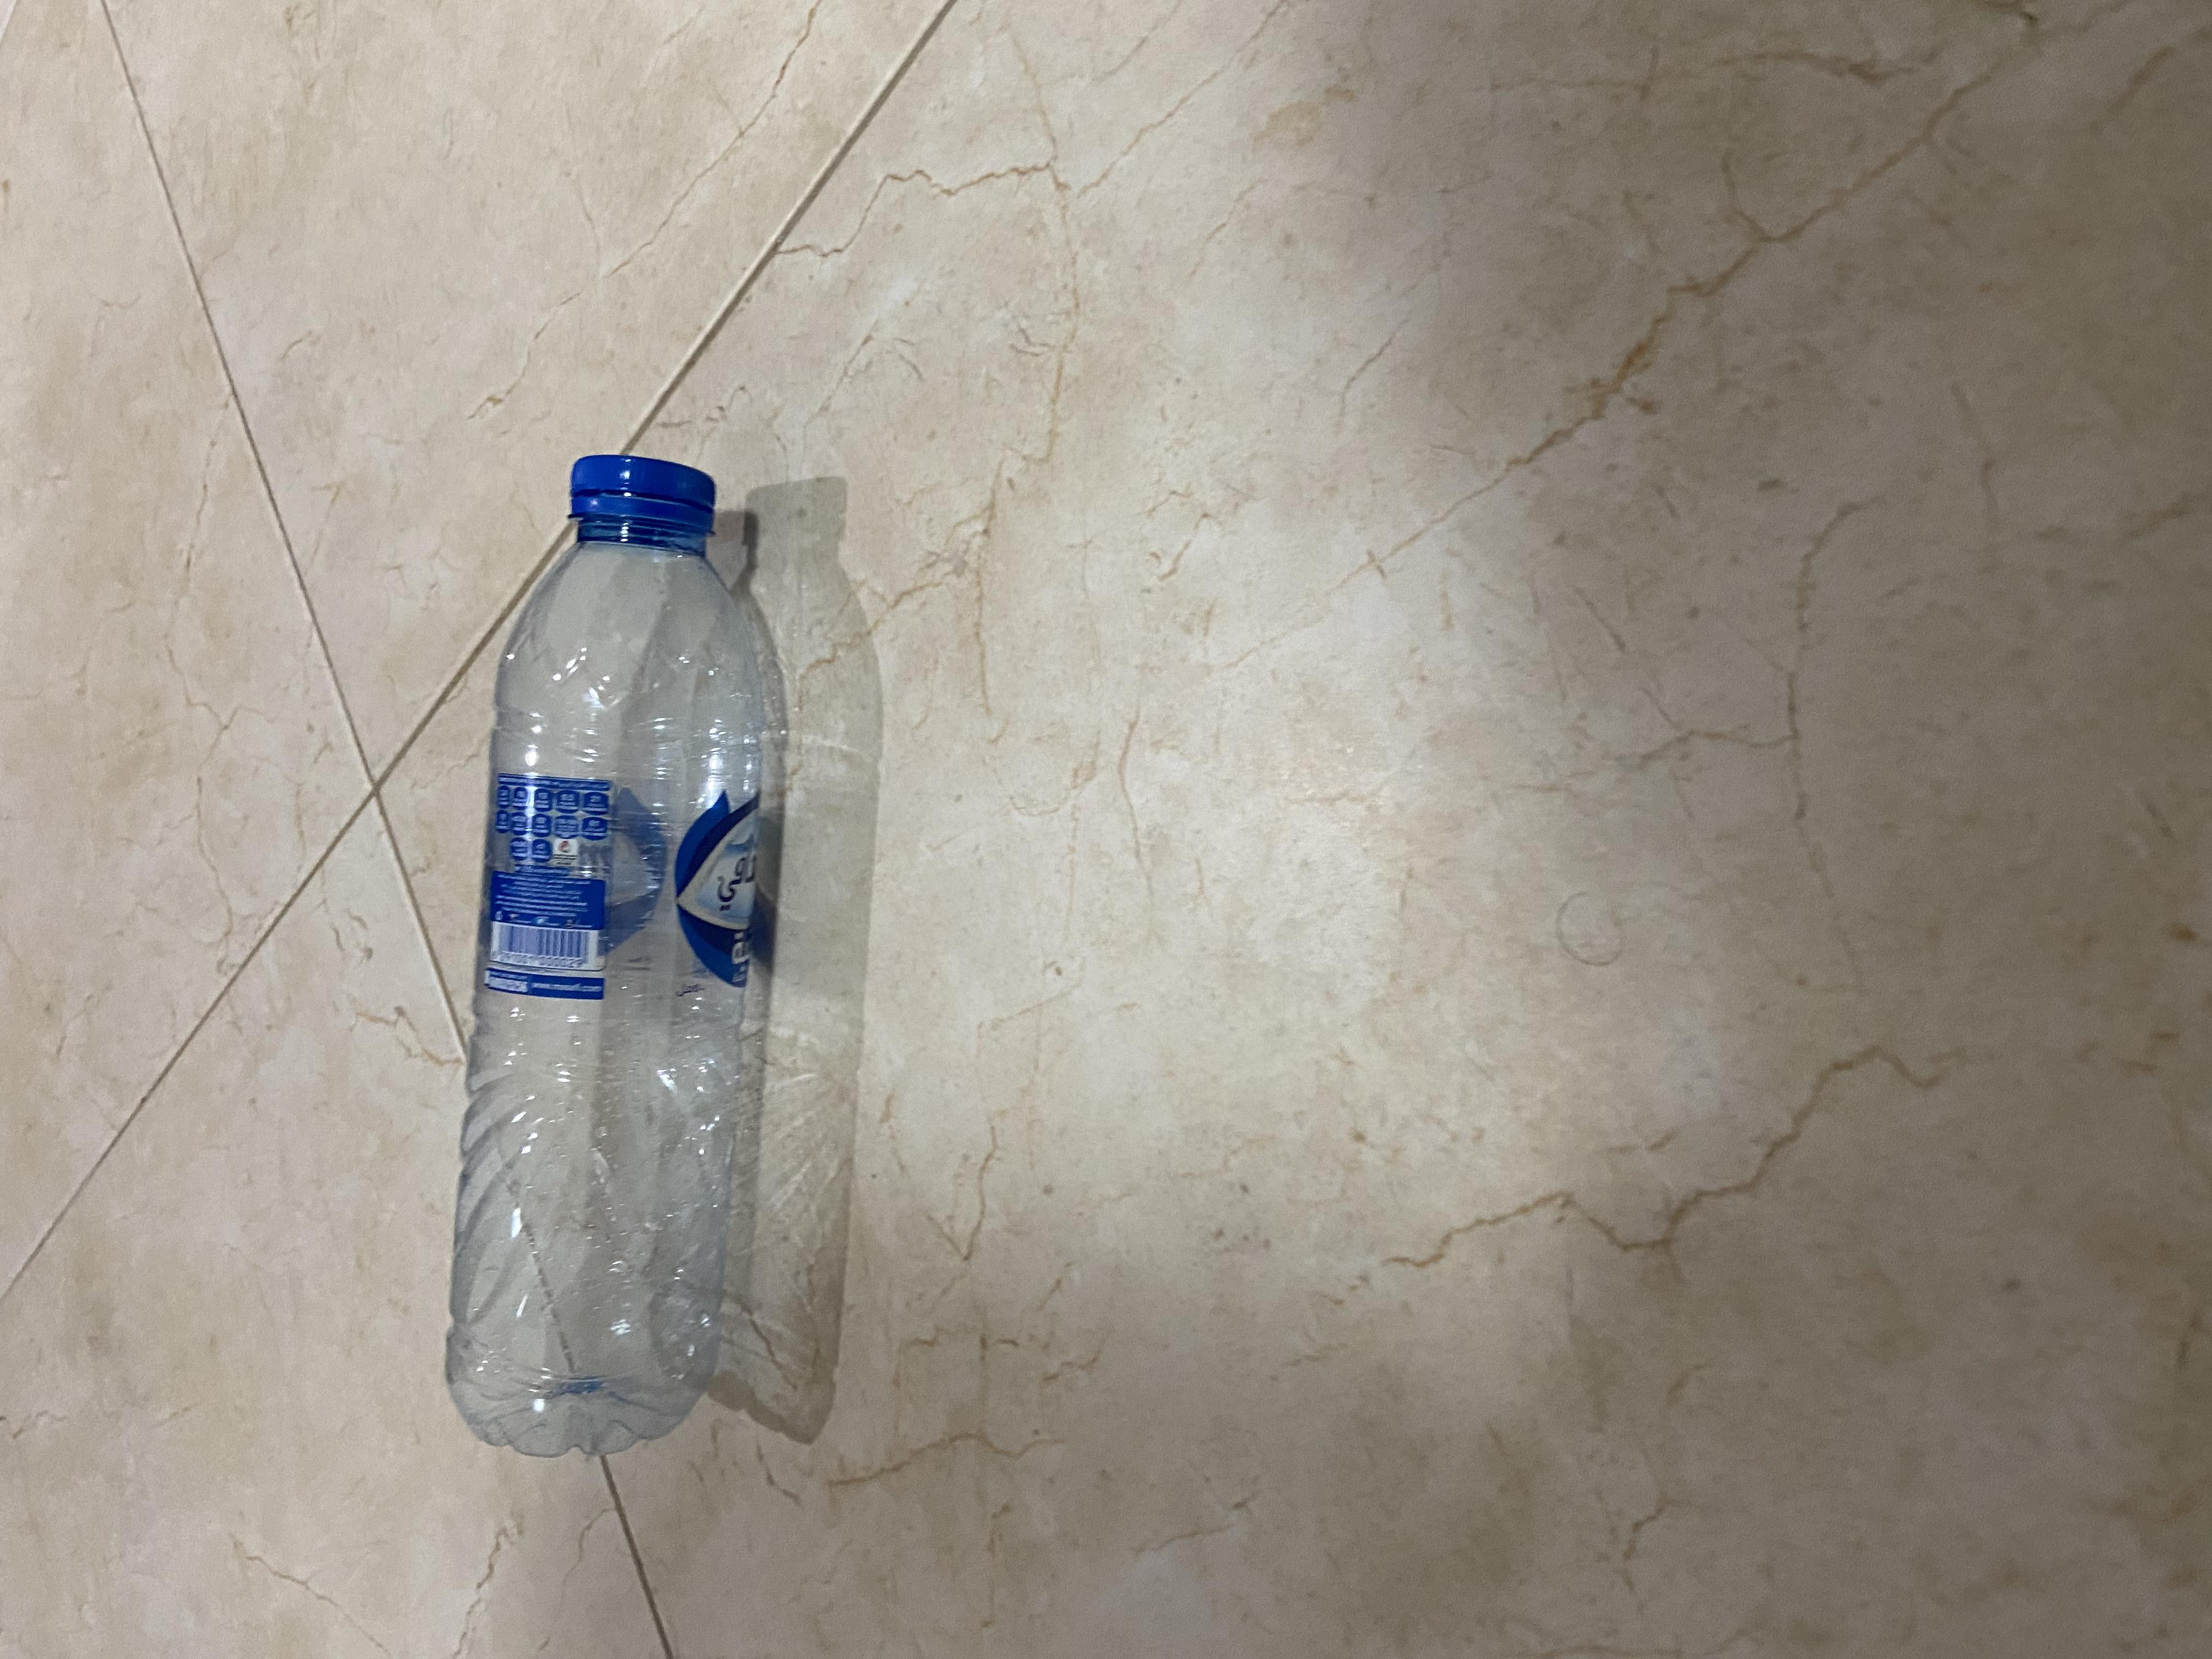bottle: (186, 296, 1658, 624)
